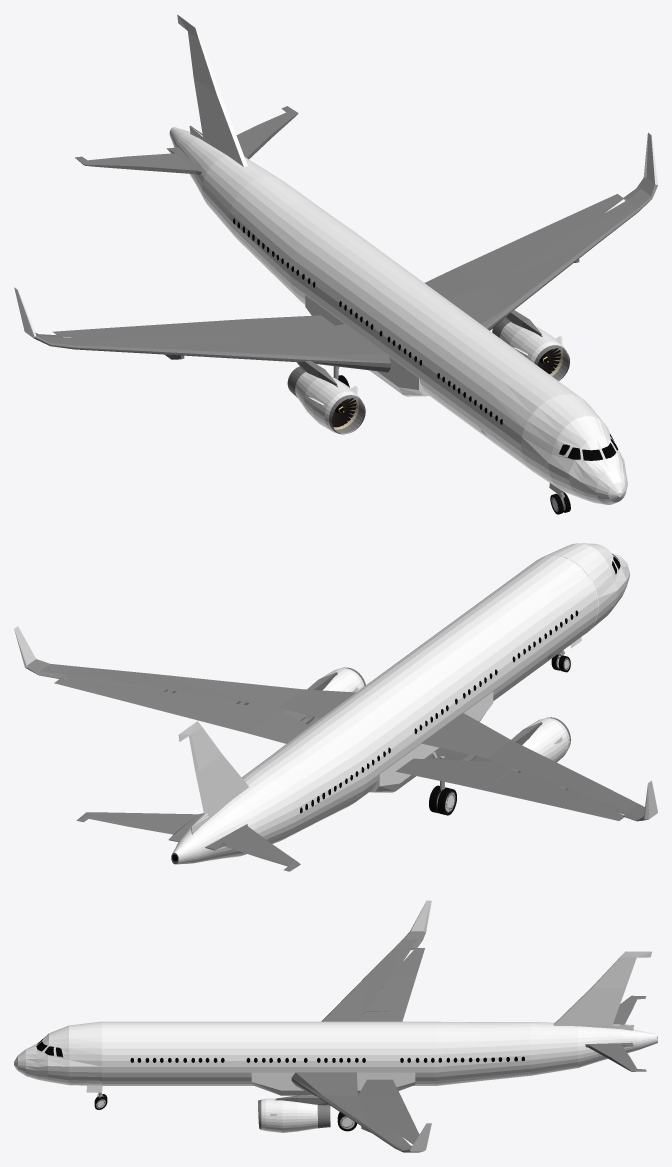
The picture shows the model from 3 angles, top to bottom: view 1: azimuth 30°, elevation 25°; view 2: azimuth 150°, elevation 25°; view 3: azimuth 270°, elevation 25°; orthographic projection. The views are drawn at different scales.
Parts seen in each view (by area): view 1: Object_4, Object_181, Object_81, flap_panel_R, flap_panel_L, Object_75, Object_49, Object_203, Object_43, Object_53, Object_103, Object_79; view 2: Object_4, Object_81, Object_181, flap_panel_R, flap_panel_L, Object_75, Object_53, Object_49, Object_43, Object_203, Object_79, Object_103; view 3: Object_4, Object_81, Object_75, Object_181, flap_panel_L, flap_panel_R, Object_43, Object_103, Object_79, Object_53, Object_172, Object_49.
Part boxes in pixels (x1,y1,x2,y2): Object_4: (169,127,627,504); Object_181: (14,287,390,372); Object_81: (446,132,657,330); flap_panel_R: (425,194,623,298); flap_panel_L: (52,315,334,337); Object_75: (177,14,247,166); Object_49: (75,147,201,175); Object_203: (302,376,363,433); Object_43: (305,295,428,396); Object_53: (236,106,298,159); Object_103: (508,326,567,380); Object_79: (233,218,502,424); Object_4: (171,543,629,864); Object_81: (14,626,355,725); Object_181: (421,712,657,821); flap_panel_R: (54,678,309,743); flap_panel_L: (396,758,624,820); Object_75: (178,721,248,834); Object_53: (76,812,202,842); Object_49: (205,824,300,871); Object_43: (370,691,493,792); Object_203: (524,718,569,762); Object_79: (300,610,578,813); Object_103: (320,668,364,692); Object_4: (14,1021,657,1085); Object_81: (291,1072,431,1152); Object_75: (553,951,651,1030); Object_181: (321,900,431,1021); flap_panel_L: (359,948,424,1021); flap_panel_R: (358,1079,419,1144); Object_43: (251,1072,415,1095); Object_103: (261,1098,301,1132); Object_79: (130,1056,524,1062); Object_53: (585,1042,646,1071); Object_172: (298,1102,317,1131); Object_49: (613,995,646,1029).
Size of the model in its own units: 4.96 by 1.65 by 6.06.
Materials: 12 (3 with a texture image).
